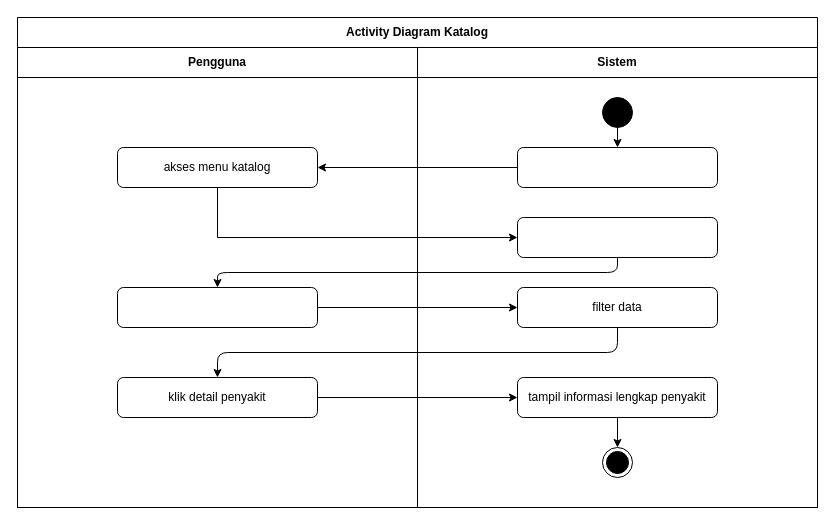
Some shapes in this 835 by 525 pixel diagram are drawn without their labels. Here are the shapes that lost their labels. From the top down, the centre of each, then its label:
the point at 617,167: Tampil beranda
the point at 617,237: tampil daftar penyakit & gejala
the point at 217,307: masukkan kata kunci pencarian
